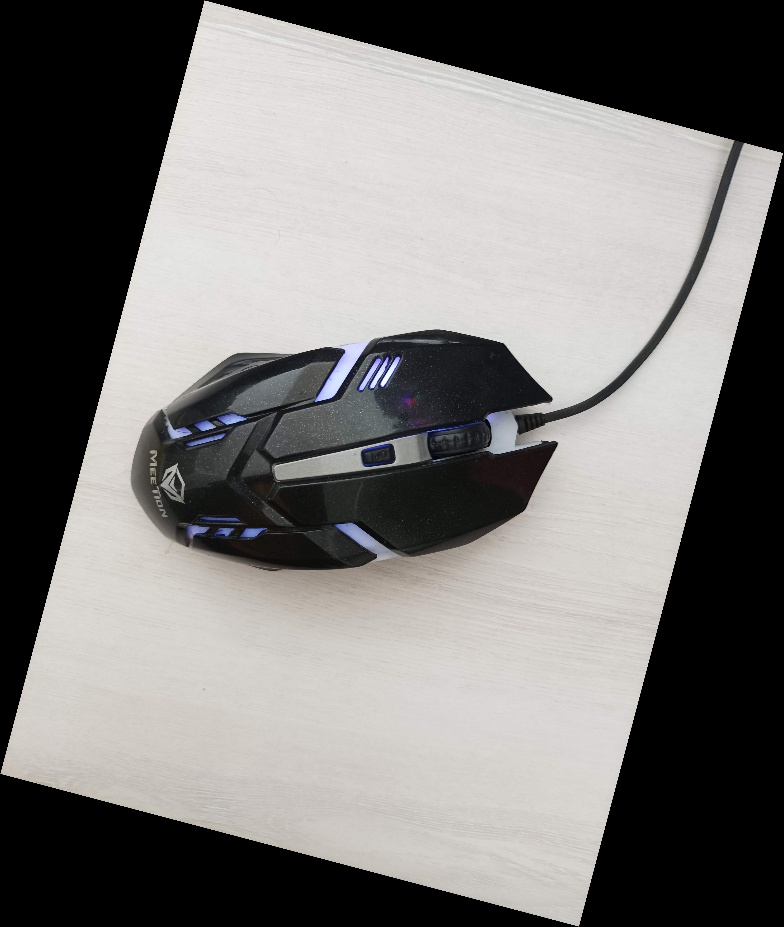mouse: (125, 322, 565, 573)
